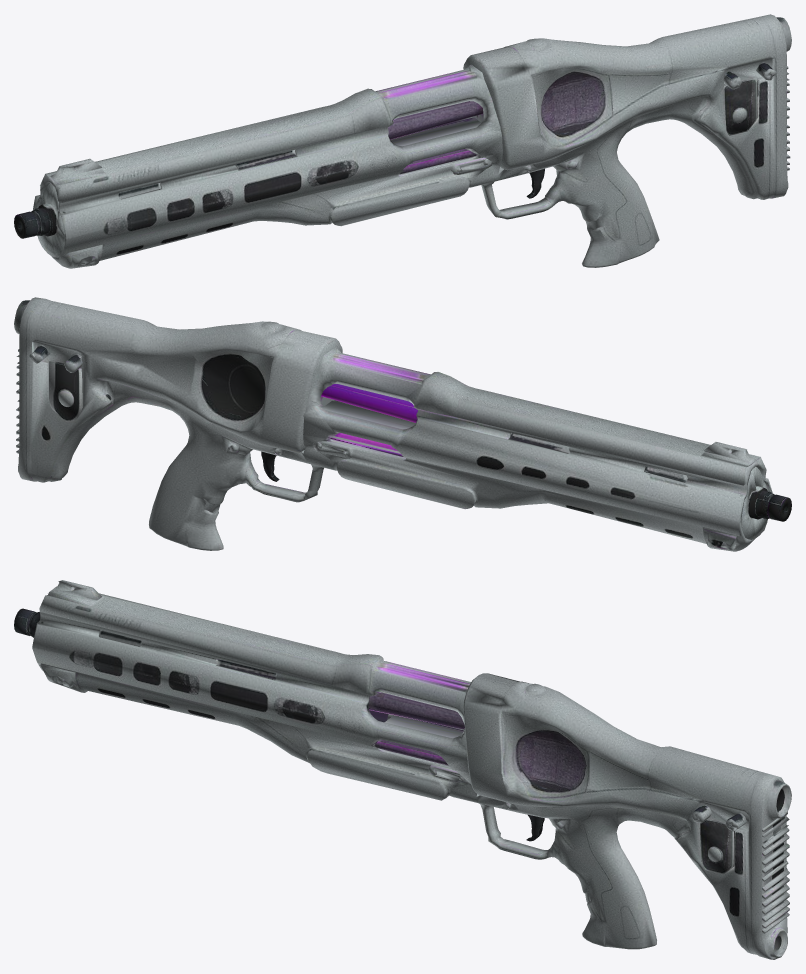
The model's file is wpn_observer_rifle.glb.
The picture shows the model from 3 angles, top to bottom: view 1: azimuth 30°, elevation 25°; view 2: azimuth 150°, elevation 25°; view 3: azimuth 330°, elevation 25°; orthographic projection.
Bounding box in the file's own units: 0.9536 × 0.2827 × 0.0879.
1 material, 1 textured.
